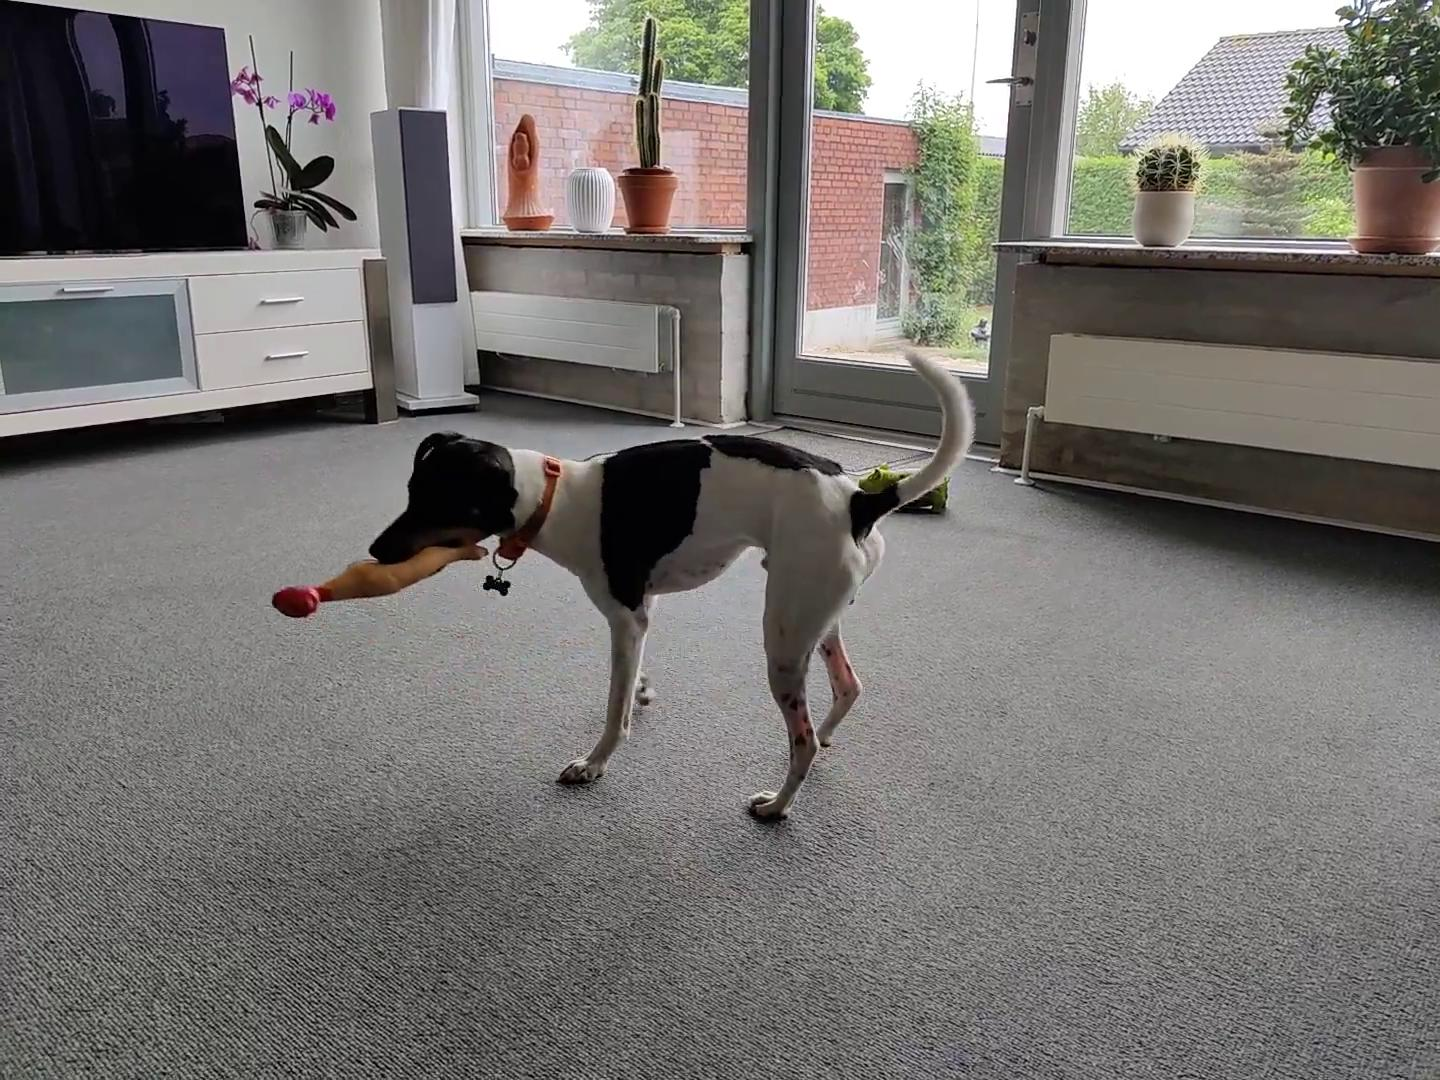Dog: (364, 347, 979, 828)
